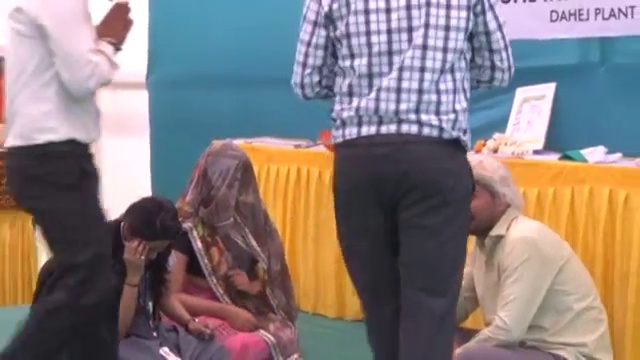helmet_off: (462, 150, 529, 239), (111, 198, 180, 264), (188, 144, 248, 211)
person: (290, 30, 512, 360), (2, 198, 232, 356), (445, 150, 612, 360), (0, 0, 133, 256), (161, 145, 303, 358)
